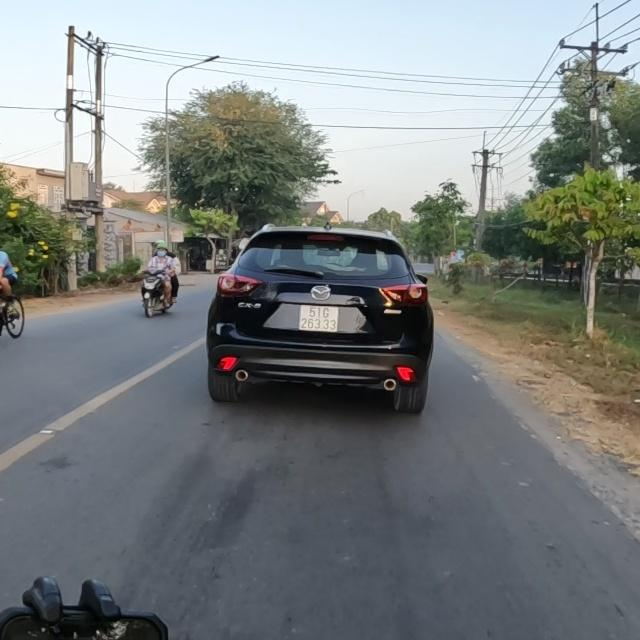license-plate: (298, 304, 340, 333)
